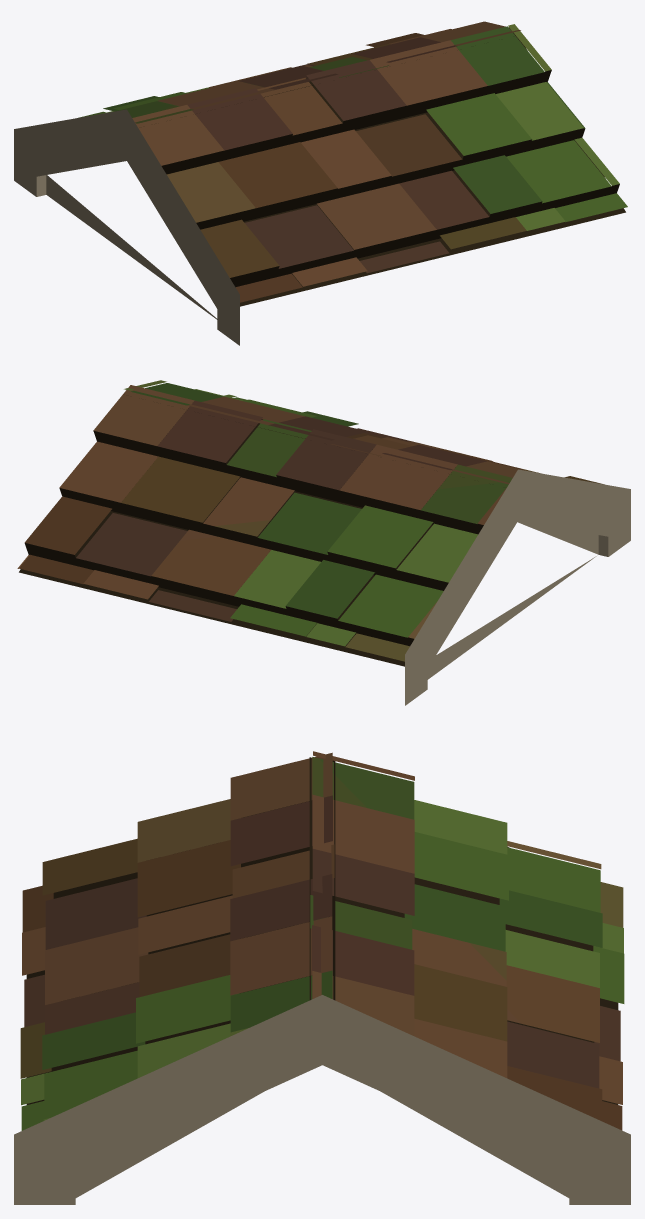
File: roof-gable-top-mossy.glb
3 views of the same model, one above another, from view 1: azimuth 30°, elevation 25°; view 2: azimuth 150°, elevation 25°; view 3: azimuth 270°, elevation 25° (orthographic). The views are drawn at different scales.
Parts seen in each view (by area): view 1: roof-gable-top-mossy; view 2: roof-gable-top-mossy; view 3: roof-gable-top-mossy.
Part boxes in pixels (x1,y1,x2,y2): roof-gable-top-mossy: (14, 21, 627, 345); roof-gable-top-mossy: (17, 380, 630, 705); roof-gable-top-mossy: (14, 751, 630, 1204).
Size of the model in its own units: 1 by 0.3759 by 1.
